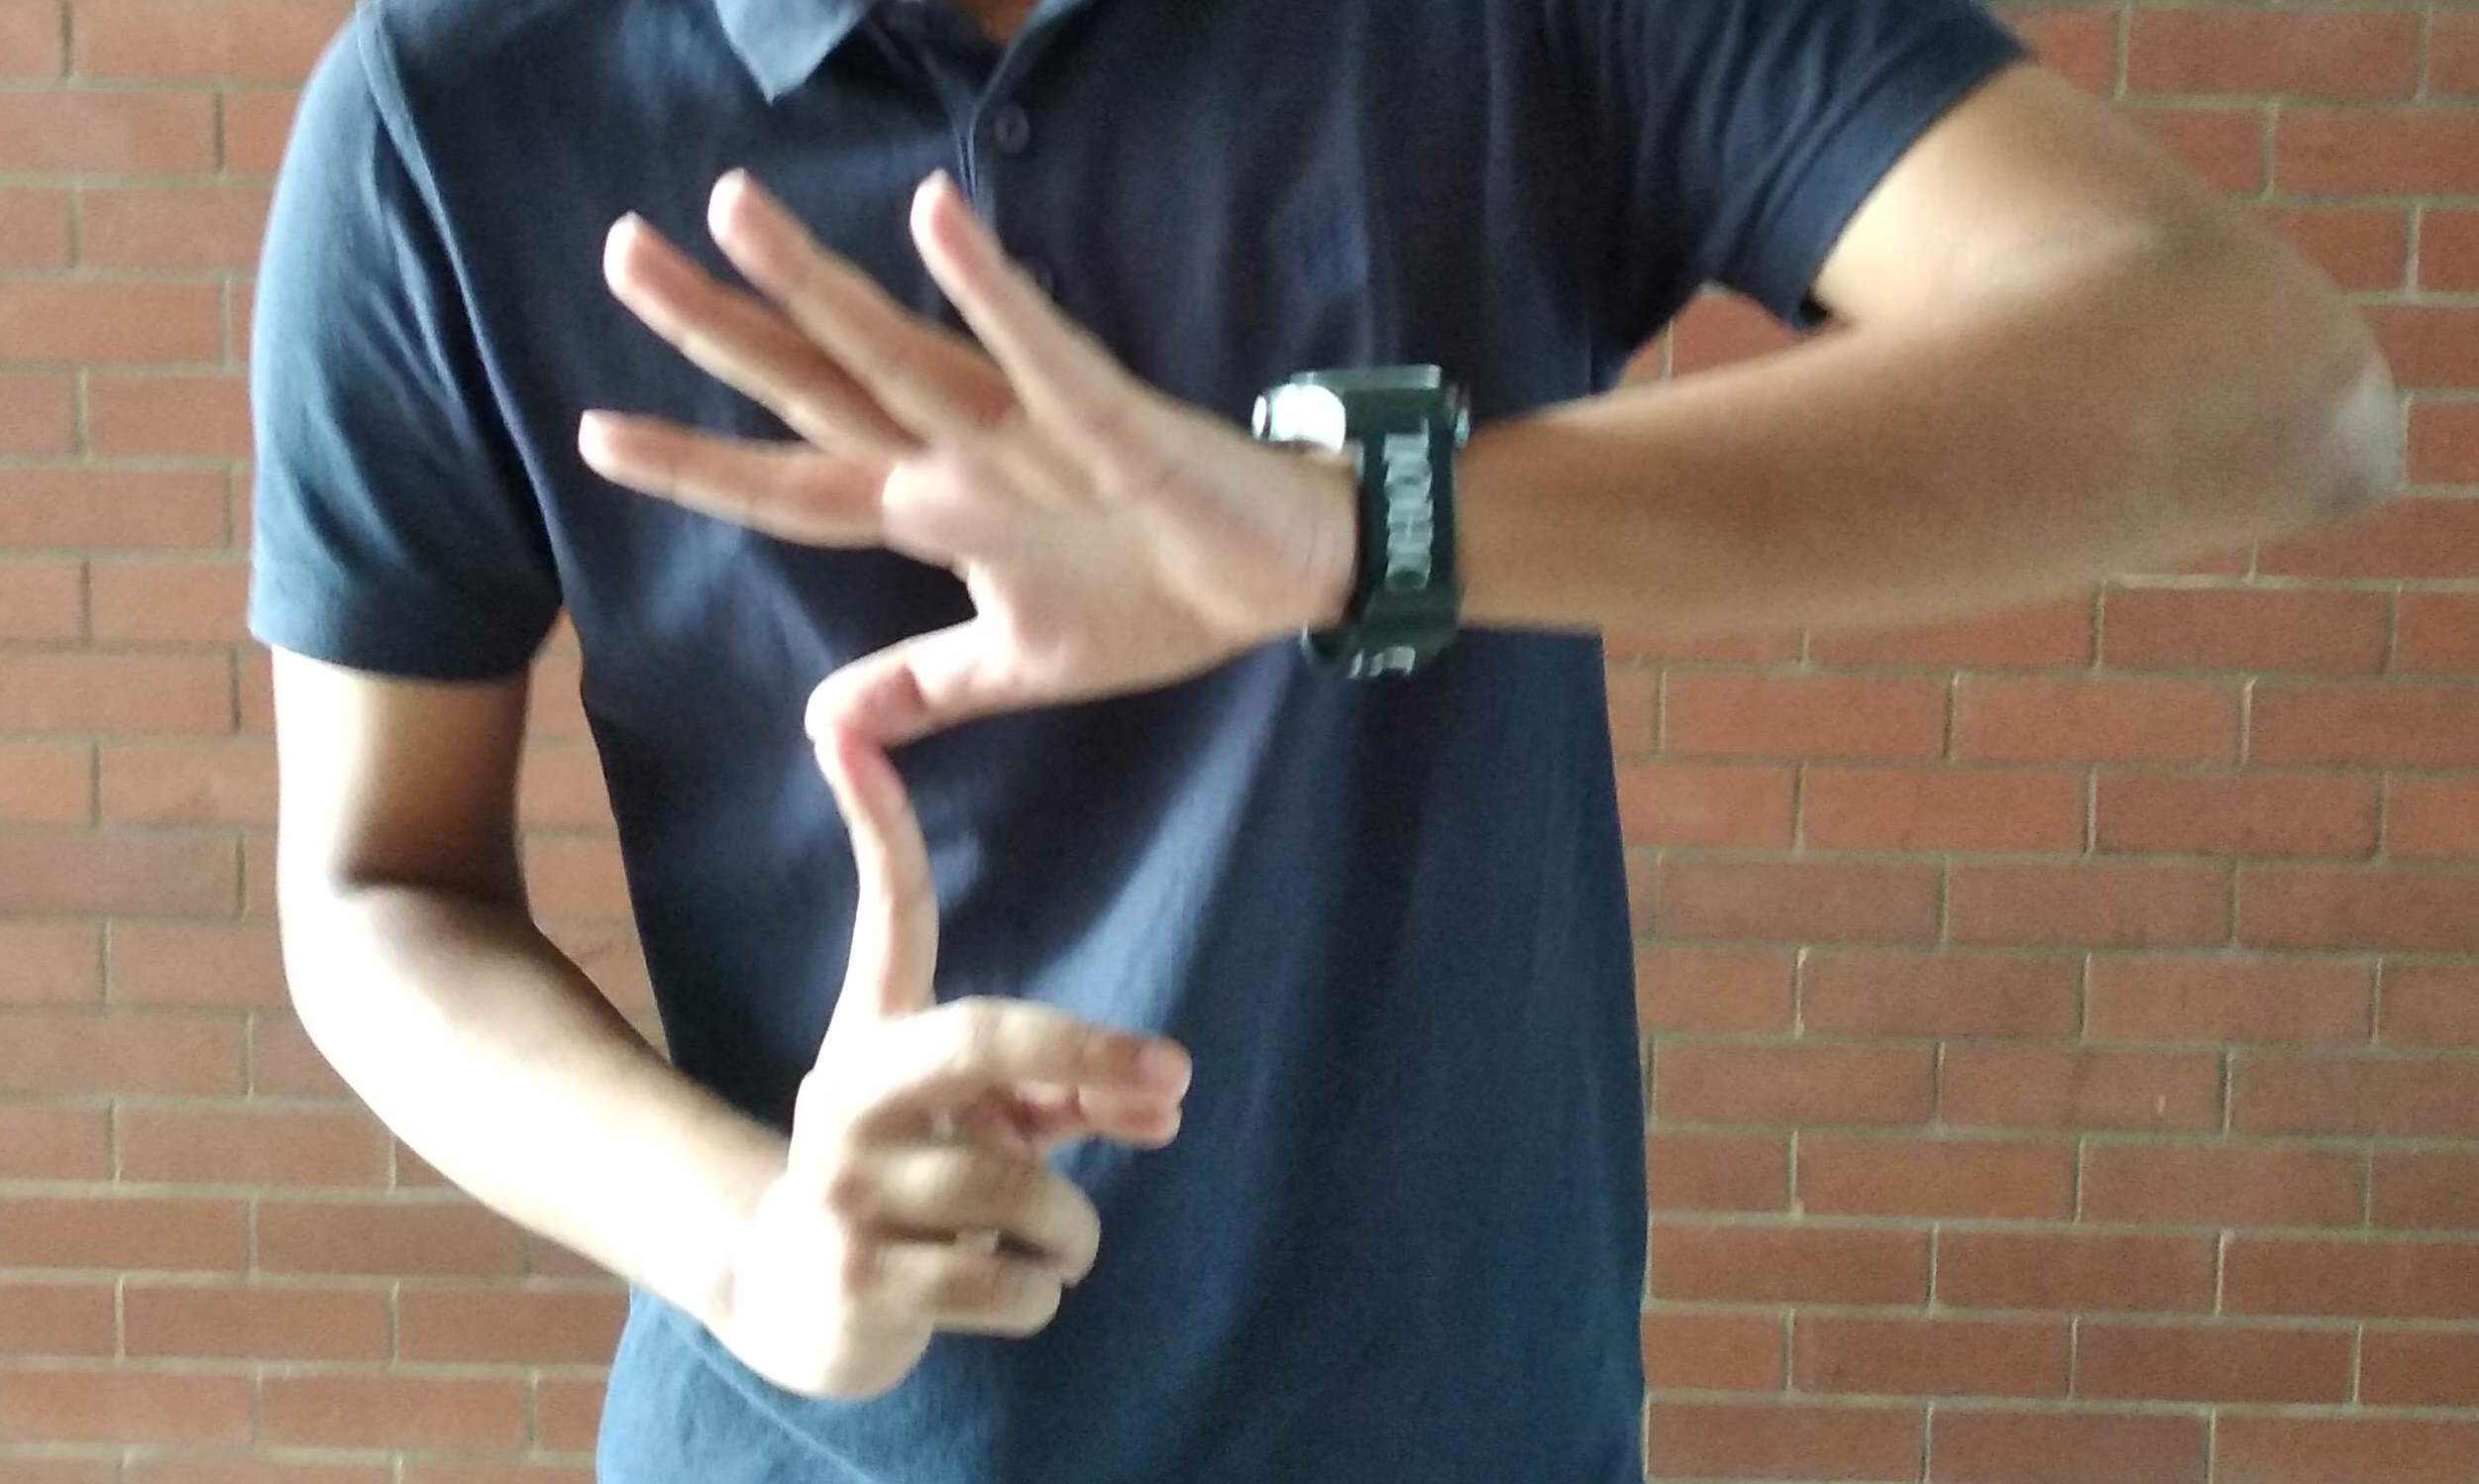a: (548, 193, 1288, 1357)
